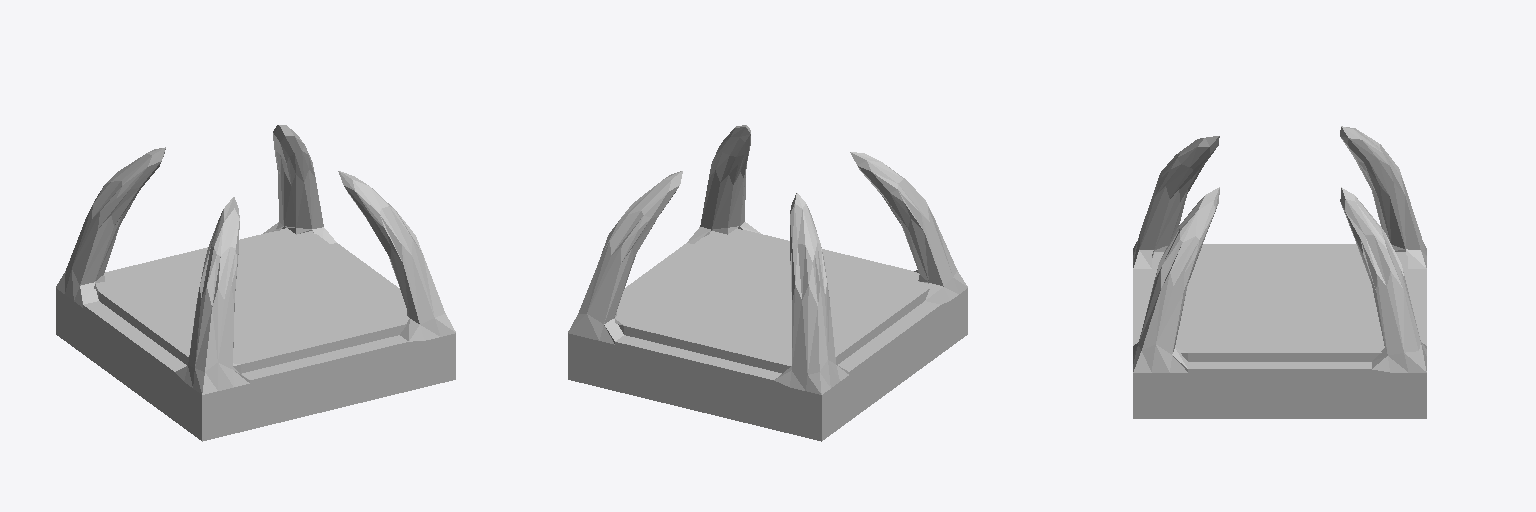
Rendered from AstralEnergyNodeBaseplatetest.obj.
3 views of the same model, side by side, from view 1: azimuth 30°, elevation 25°; view 2: azimuth 150°, elevation 25°; view 3: azimuth 270°, elevation 25° (orthographic).
Visible parts, largest first — view 1: Cube; view 2: Cube; view 3: Cube.
Part boxes in pixels (x1,y1,x2,y2): Cube: (56, 125, 455, 441); Cube: (568, 125, 967, 441); Cube: (1133, 126, 1426, 418).
Bounding box in the file's own units: 2 × 1.52 × 2.